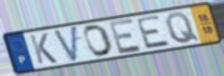E: (107, 16, 145, 55), (135, 13, 173, 50)
K: (28, 32, 59, 66)
O: (83, 23, 115, 58)
Q: (164, 11, 201, 45)
V: (52, 24, 79, 64)
